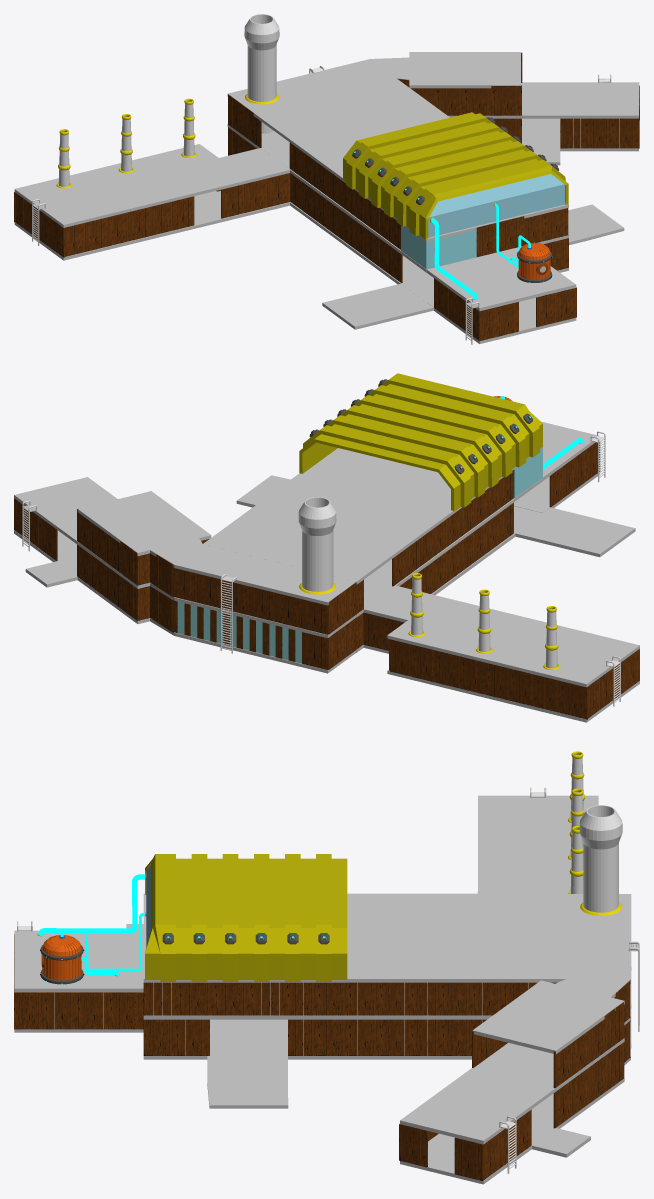
File: research_area.fbx
The picture shows the model from 3 angles, top to bottom: view 1: azimuth 30°, elevation 25°; view 2: azimuth 150°, elevation 25°; view 3: azimuth 270°, elevation 25°; orthographic projection. The views are drawn at different scales.
Parts seen in each view (by area): view 1: Cube.027, Cube.028, Cube.035, Cube, Cube.038, Cube.020, Cube.015, Cube.042, Cylinder.001, Cube.034, Cube.029, Cube.008 (+16 smaller); view 2: Cube.028, Cube.027, Cube.035, Cube, Cube.021, Cube.043, Cube.042, Cylinder.001, Cube.015, Cube.053, Cube.054, Cube.012 (+16 smaller); view 3: Cube.028, Cube.027, Cube.035, Cube, Cube.031, Cube.004, Cube.002, Cube.030, Cylinder.001, Cube.012, Cube.039, Cube.003 (+8 smaller).
Part boxes in pixels (<box>): Cube.027: <box>14,82,639,311</box>; Cube.028: <box>227,52,568,242</box>; Cube.035: <box>343,112,568,239</box>; Cube: <box>14,118,638,343</box>; Cube.038: <box>428,174,565,237</box>; Cube.020: <box>65,196,194,256</box>; Cube.015: <box>290,173,402,283</box>; Cube.042: <box>289,142,400,249</box>; Cylinder.001: <box>244,14,279,133</box>; Cube.034: <box>410,85,521,115</box>; Cube.029: <box>476,208,568,257</box>; Cube.008: <box>560,118,639,148</box>; Cube.028: <box>77,447,542,605</box>; Cube.027: <box>14,421,639,687</box>; Cube.035: <box>299,373,542,511</box>; Cube: <box>14,473,639,722</box>; Cube.021: <box>389,639,587,719</box>; Cube.043: <box>171,564,328,634</box>; Cube.042: <box>392,470,513,586</box>; Cylinder.001: <box>298,497,336,591</box>; Cube.015: <box>399,502,513,593</box>; Cube.053: <box>177,601,301,663</box>; Cube.054: <box>184,603,295,661</box>; Cube.012: <box>77,544,137,620</box>; Cube.028: <box>143,893,631,1054</box>; Cube.027: <box>14,795,631,1144</box>; Cube.035: <box>145,854,347,981</box>; Cube: <box>14,924,631,1184</box>; Cube.031: <box>288,982,556,1015</box>; Cube.004: <box>288,1019,486,1055</box>; Cube.002: <box>14,992,143,1029</box>; Cube.030: <box>144,982,287,1015</box>; Cylinder.001: <box>579,805,622,912</box>; Cube.012: <box>553,1042,623,1128</box>; Cube.039: <box>553,1002,623,1088</box>; Cube.003: <box>145,1019,209,1055</box>.
Bounding box in the file's own units: 10235 × 2439 × 7783.
